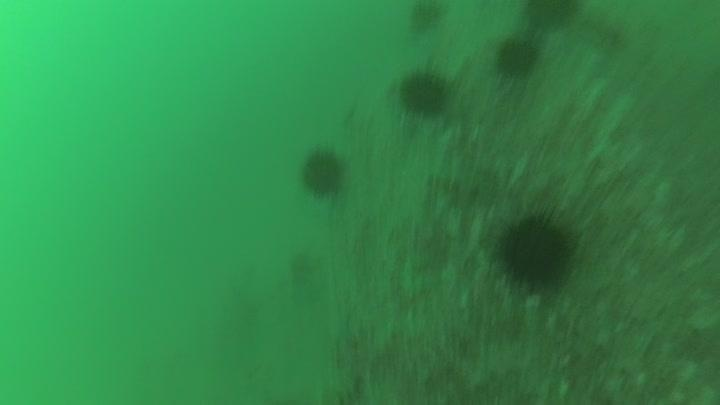echinus: (493, 206, 580, 292), (393, 62, 454, 120), (297, 144, 350, 201), (493, 33, 542, 80), (519, 0, 584, 32), (405, 0, 450, 36)
